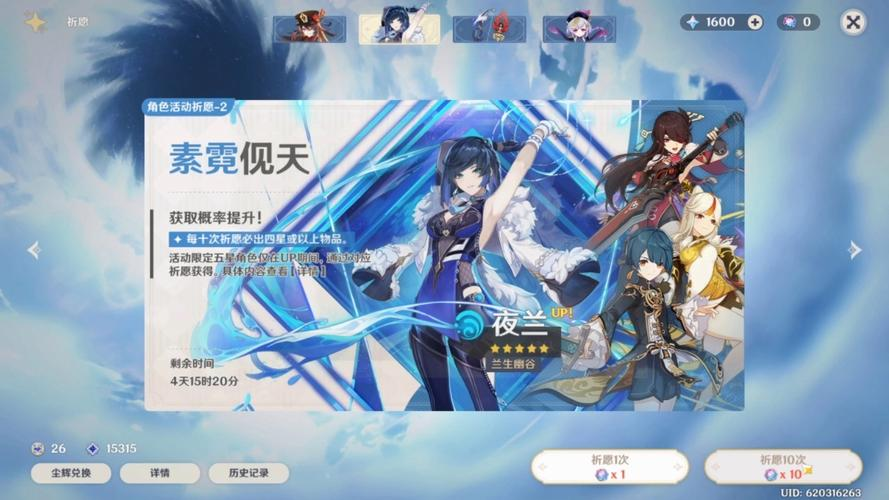夜兰: (401, 113, 572, 415), (363, 4, 439, 47)
